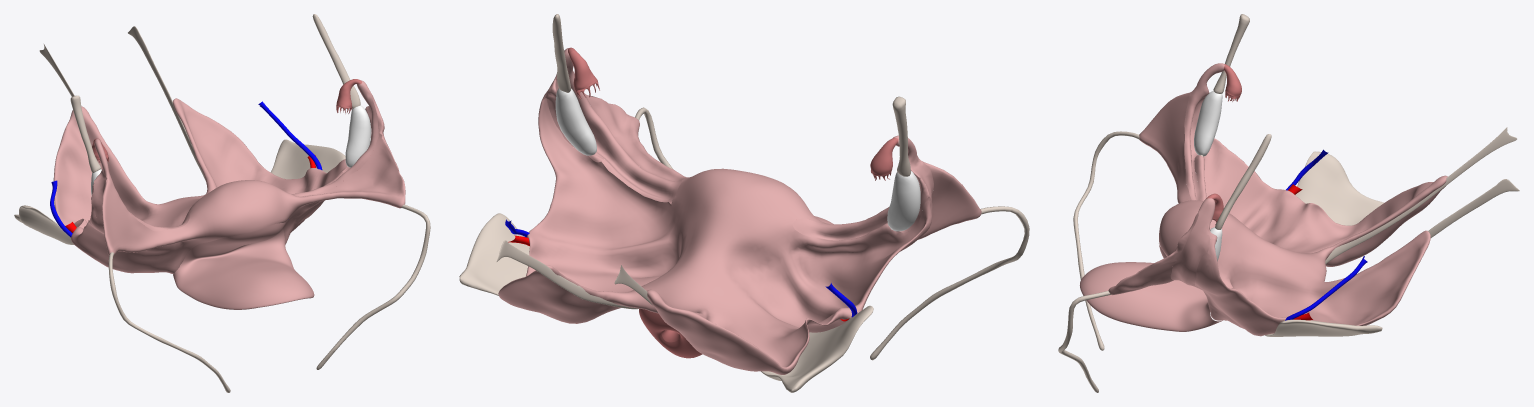
The model's file is female-reproductive.c2845a81.glb.
3 renders of one model, left to right at view 1: azimuth 30°, elevation 25°; view 2: azimuth 150°, elevation 25°; view 3: azimuth 270°, elevation 25°, orthographic. The views are drawn at different scales.
Visible parts, largest first — view 1: VH_F_broad_ligament, VH_F_uterovesical_pouch, VH_F_left_cardinal_ligament_of_uterus, VH_F_mesosalpinx_L, VH_F_right_round_ligament_of_uterus, VH_F_left_ovary, VH_F_mesosalpinx_R, VH_F_right_cardinal_ligament_of_uterus, VH_F_left_round_ligament_of_uterus, VH_F_left_uterosacral_ligament, VH_F_suspensory_ligament_of_ovary_L, VH_F_suspensory_ligament_of_ovary_R (+1 smaller); view 2: VH_F_broad_ligament, VH_F_left_cardinal_ligament_of_uterus, VH_F_mesosalpinx_L, VH_F_right_cardinal_ligament_of_uterus, VH_F_mesosalpinx_R, VH_F_left_ovary, VH_F_left_round_ligament_of_uterus, VH_F_right_ovary, VH_F_left_uterosacral_ligament, VH_F_cervix, VH_F_suspensory_ligament_of_ovary_R, VH_F_suspensory_ligament_of_ovary_L (+3 smaller); view 3: VH_F_broad_ligament, VH_F_uterovesical_pouch, VH_F_right_cardinal_ligament_of_uterus, VH_F_mesosalpinx_L, VH_F_mesosalpinx_R, VH_F_left_cardinal_ligament_of_uterus, VH_F_right_uterosacral_ligament, VH_F_right_ovary, VH_F_left_round_ligament_of_uterus, VH_F_left_uterosacral_ligament, VH_F_suspensory_ligament_of_ovary_L, VH_F_right_round_ligament_of_uterus (+2 smaller).
Boxes of the visible parts, x1,y1,x2,y2 form: VH_F_broad_ligament: (53,94,405,273); VH_F_uterovesical_pouch: (173,222,314,309); VH_F_left_cardinal_ligament_of_uterus: (270,139,345,179); VH_F_mesosalpinx_L: (288,80,378,220); VH_F_right_round_ligament_of_uterus: (316,204,430,369); VH_F_left_ovary: (345,105,371,167); VH_F_mesosalpinx_R: (91,139,189,241); VH_F_right_cardinal_ligament_of_uterus: (14,205,73,244); VH_F_left_round_ligament_of_uterus: (108,252,230,392); VH_F_left_uterosacral_ligament: (128,26,205,180); VH_F_suspensory_ligament_of_ovary_L: (312,14,360,108); VH_F_suspensory_ligament_of_ovary_R: (70,95,100,172); VH_F_broad_ligament: (498,86,981,374); VH_F_left_cardinal_ligament_of_uterus: (459,213,529,295); VH_F_mesosalpinx_L: (554,48,681,202); VH_F_right_cardinal_ligament_of_uterus: (761,305,873,392); VH_F_mesosalpinx_R: (793,135,933,240); VH_F_left_ovary: (555,88,596,155); VH_F_left_round_ligament_of_uterus: (870,206,1029,360); VH_F_right_ovary: (887,171,920,231); VH_F_left_uterosacral_ligament: (496,240,638,309); VH_F_cervix: (639,308,702,358); VH_F_suspensory_ligament_of_ovary_R: (892,96,910,176); VH_F_suspensory_ligament_of_ovary_L: (552,14,570,92); VH_F_broad_ligament: (1108,92,1447,336); VH_F_uterovesical_pouch: (1079,244,1221,331); VH_F_right_cardinal_ligament_of_uterus: (1295,151,1384,225); VH_F_mesosalpinx_L: (1170,198,1215,287); VH_F_mesosalpinx_R: (1184,63,1224,200); VH_F_left_cardinal_ligament_of_uterus: (1265,319,1382,336); VH_F_right_uterosacral_ligament: (1325,127,1516,263); VH_F_right_ovary: (1194,91,1222,156); VH_F_left_round_ligament_of_uterus: (1073,131,1139,350); VH_F_left_uterosacral_ligament: (1428,179,1519,237); VH_F_suspensory_ligament_of_ovary_L: (1215,134,1271,229); VH_F_right_round_ligament_of_uterus: (1058,290,1110,392).
Bounding box in the file's own units: 3.28 × 2.75 × 3.8.
